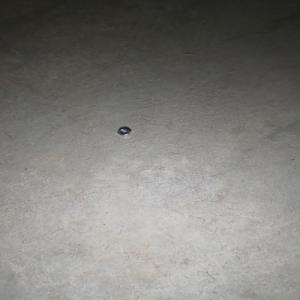Nut: (116, 127, 130, 136)
